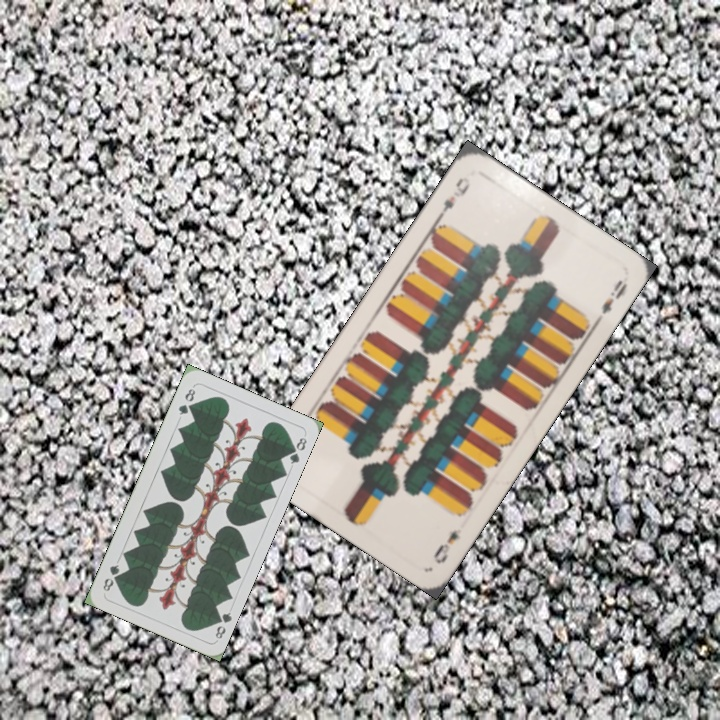E9: (433, 173, 473, 223), (429, 524, 464, 567)
G8: (174, 384, 198, 418), (210, 608, 234, 641)
